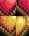heart: (0, 0, 16, 16), (16, 0, 29, 16)
